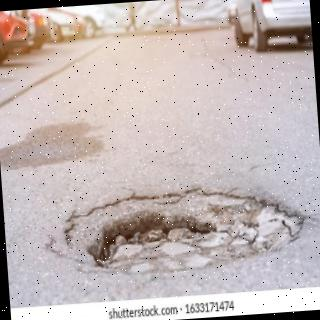pothole: (63, 189, 305, 271)
